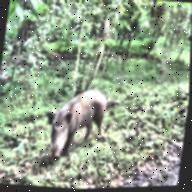boar: (32, 77, 120, 167)
